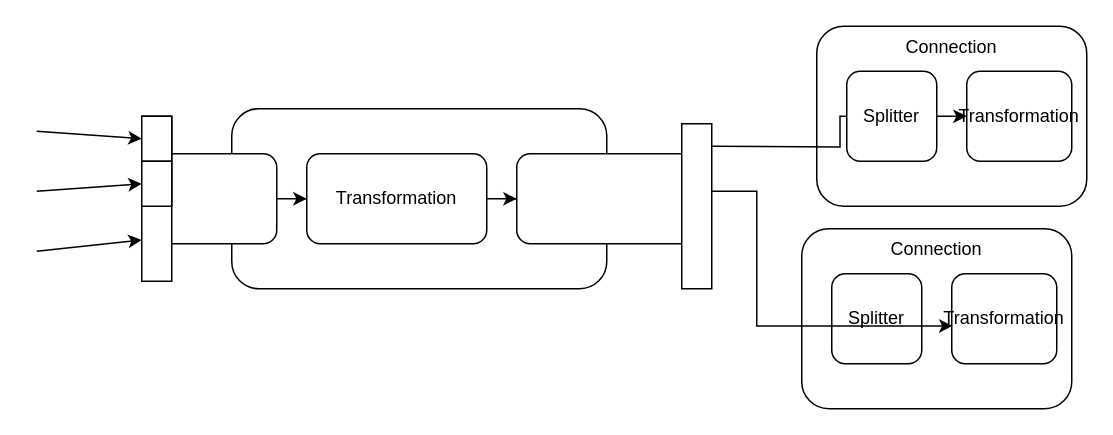
Some shapes in this 1113 by 435 pixel diagram are drawn without their labels. Each missing label, with the box of its shape:
Area: (230, 107, 607, 289)
Merger: (155, 152, 277, 244)
Time-Frame Accumulator: (515, 152, 697, 244)
